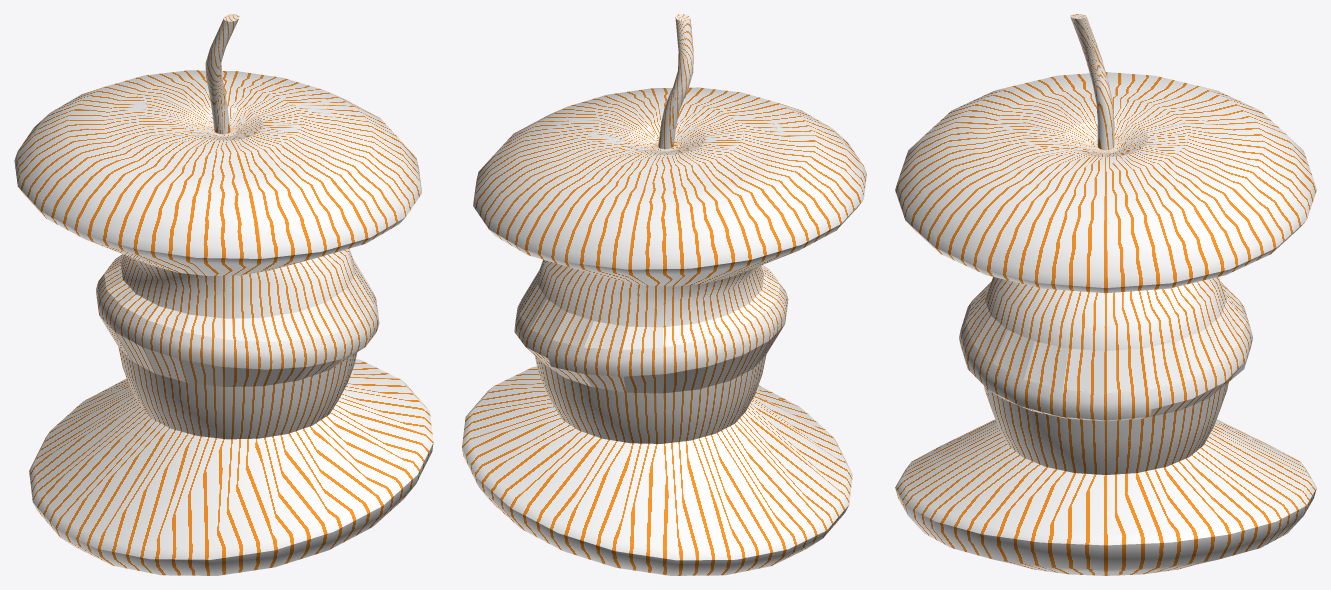
Rendered from Mesh Apple.fbx.
3 views of the same model, side by side, from view 1: azimuth 30°, elevation 25°; view 2: azimuth 150°, elevation 25°; view 3: azimuth 270°, elevation 25° (orthographic). The views are drawn at different scales.
Visible parts, largest first — view 1: polySurface2; view 2: polySurface2; view 3: polySurface2.
Boxes of the visible parts, x1=… form: polySurface2: x1=14, y1=14, x2=433, y2=575; polySurface2: x1=462, y1=14, x2=866, y2=575; polySurface2: x1=895, y1=14, x2=1316, y2=575.
Bounding box in the file's own units: 11.73 × 15.86 × 11.39.
1 material, 1 textured.
